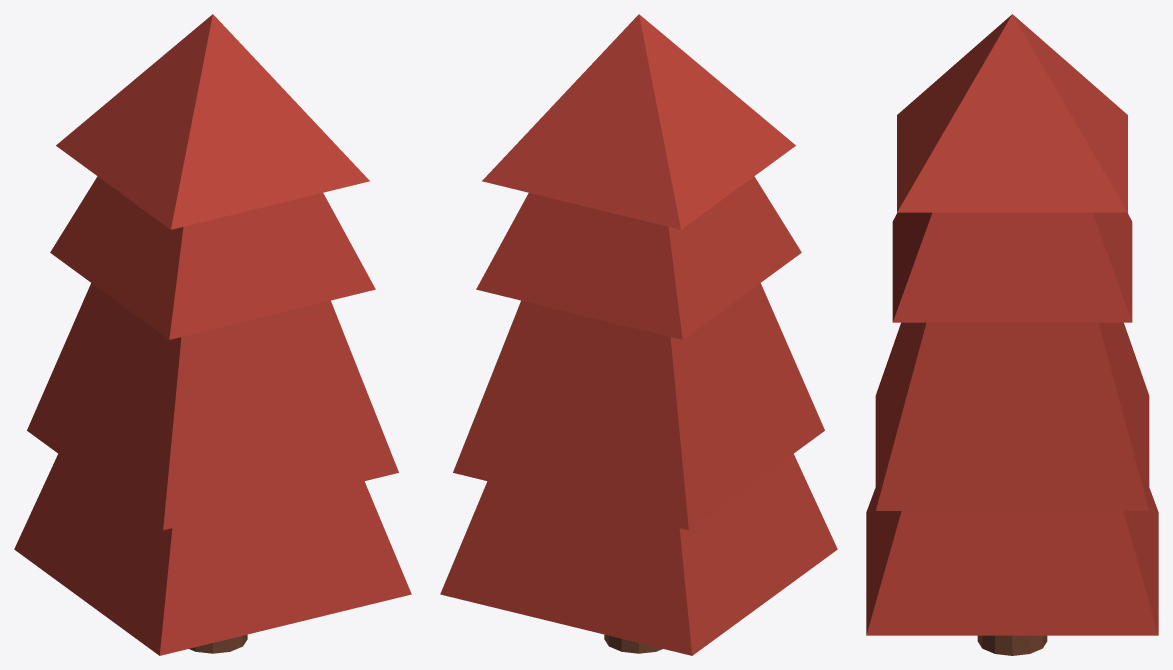
Rendered from Tree_17_summer_red_vc.fbx.
The picture shows the model from 3 angles, left to right: view 1: azimuth 30°, elevation 25°; view 2: azimuth 150°, elevation 25°; view 3: azimuth 270°, elevation 25°; orthographic projection.
Visible parts, largest first — view 1: Tree_17_summer_red_vc; view 2: Tree_17_summer_red_vc; view 3: Tree_17_summer_red_vc.
Part boxes in pixels (x1,y1,x2,y2): Tree_17_summer_red_vc: [14, 14, 411, 655]; Tree_17_summer_red_vc: [440, 14, 837, 655]; Tree_17_summer_red_vc: [866, 14, 1158, 655].
Size of the model in its own units: 65.5 by 155 by 65.5.
